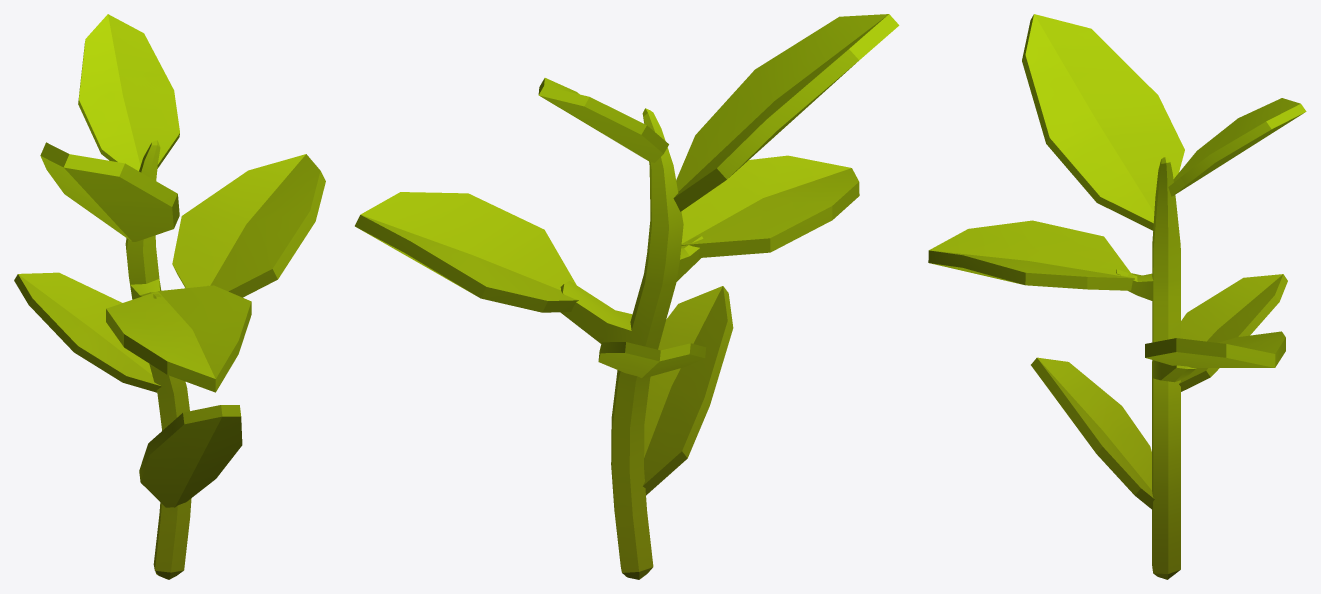
File: Plant.fbx
3 views of the same model, side by side, from view 1: azimuth 30°, elevation 25°; view 2: azimuth 150°, elevation 25°; view 3: azimuth 270°, elevation 25° (orthographic). The views are drawn at different scales.
Visible parts, largest first — view 1: Plant; view 2: Plant; view 3: Plant.
Part boxes in pixels (x1,y1,x2,y2): Plant: [14, 14, 325, 579]; Plant: [355, 14, 899, 579]; Plant: [928, 14, 1306, 579].
Bounding box in the file's own units: 85.16 × 111 × 78.21.
